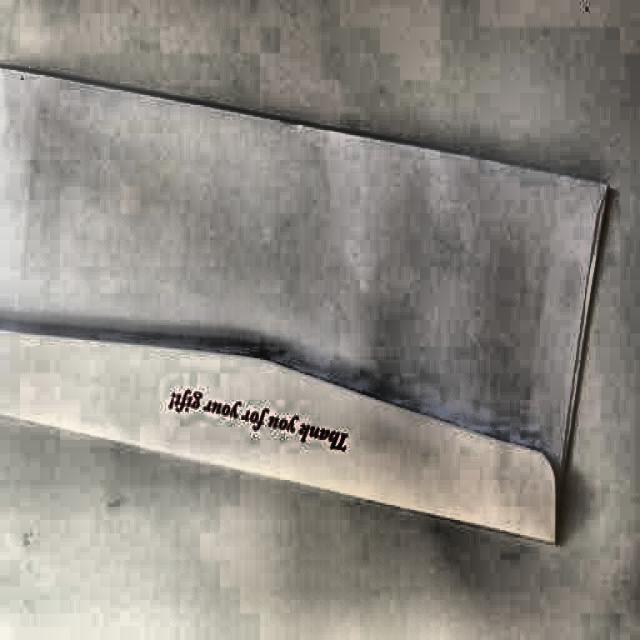paper: (0, 62, 604, 551)
